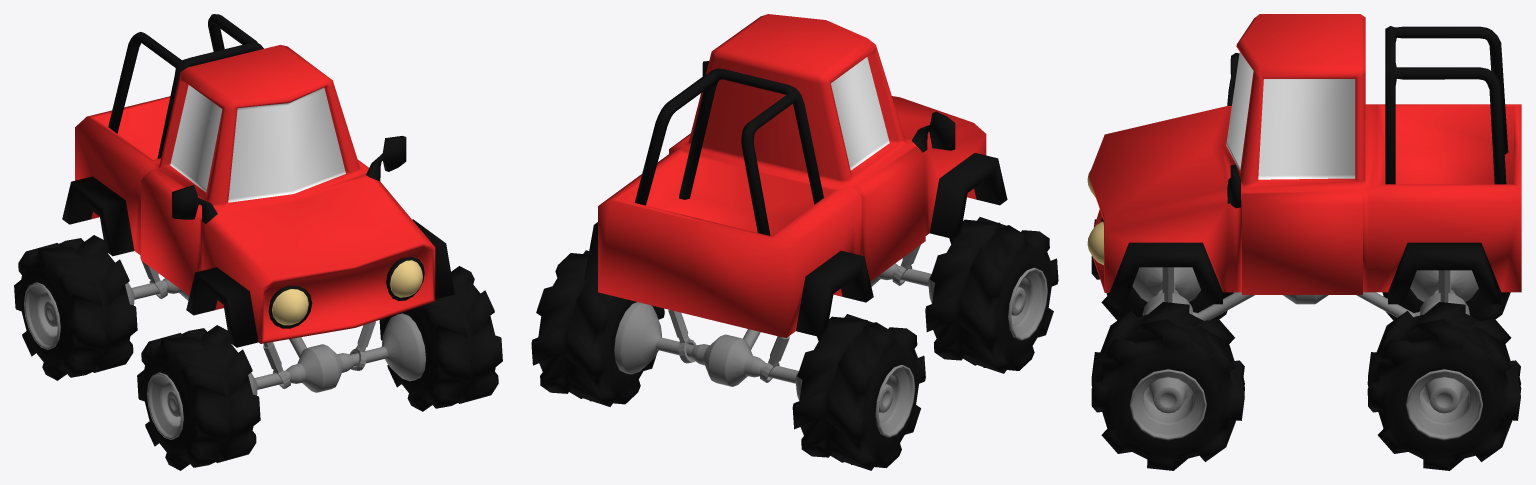
File: JeepCar.glb
3 views of the same model, side by side, from view 1: azimuth 30°, elevation 25°; view 2: azimuth 150°, elevation 25°; view 3: azimuth 270°, elevation 25° (orthographic). The views are drawn at different scales.
Visible parts, largest first — view 1: Cube_Cube.002, Cylinder.003, Cylinder.002, Cylinder, Cube.001_Cube.004, Cube.006_Cube.001, Circle.003, Circle.002, Cube.005_Cube.008, Cube.002_Cube.005; view 2: Cube_Cube.002, Cylinder.003, Cylinder.002, Cylinder.001, Cube.006_Cube.001, Cube.002_Cube.005, Circle.003, Circle.002, Cube.005_Cube.008, Cube.001_Cube.004; view 3: Cube_Cube.002, Cylinder, Cylinder.001, Cube.006_Cube.001, Circle, Circle.001, Cube.001_Cube.004, Cube.002_Cube.005, Cube.003_Cube.006, Cylinder.003, Cylinder.002, Cube.005_Cube.008.
Part boxes in pixels (<box>): Cube_Cube.002: <box>62,45,454,347</box>; Cylinder.003: <box>137,325,260,470</box>; Cylinder.002: <box>14,235,137,380</box>; Cylinder: <box>379,266,502,411</box>; Cube.001_Cube.004: <box>248,313,425,395</box>; Cube.006_Cube.001: <box>108,14,263,158</box>; Circle.003: <box>147,372,183,439</box>; Circle.002: <box>24,282,60,349</box>; Cube.005_Cube.008: <box>140,255,375,388</box>; Cube.002_Cube.005: <box>125,278,189,305</box>; Cube_Cube.002: <box>584,14,1007,337</box>; Cylinder.003: <box>925,217,1058,373</box>; Cylinder.002: <box>792,314,925,470</box>; Cylinder.001: <box>531,250,664,406</box>; Cube.006_Cube.001: <box>634,68,823,235</box>; Cube.002_Cube.005: <box>614,302,802,400</box>; Circle.003: <box>1008,267,1047,340</box>; Circle.002: <box>875,365,915,437</box>; Cube.005_Cube.008: <box>668,245,920,382</box>; Cube.001_Cube.004: <box>870,263,934,303</box>; Cube_Cube.002: <box>1087,14,1521,304</box>; Cylinder: <box>1091,302,1244,470</box>; Cylinder.001: <box>1367,302,1521,470</box>; Cube.006_Cube.001: <box>1385,26,1508,184</box>; Circle: <box>1130,369,1206,440</box>; Circle.001: <box>1406,369,1482,440</box>; Cube.001_Cube.004: <box>1132,267,1200,315</box>; Cube.002_Cube.005: <box>1410,270,1478,315</box>; Cube.003_Cube.006: <box>1192,292,1420,320</box>; Cylinder.003: <box>1091,219,1234,320</box>; Cylinder.002: <box>1382,288,1510,320</box>; Cube.005_Cube.008: <box>1157,267,1455,302</box>.
Size of the model in its own units: 5.9 by 5.64 by 6.34.
